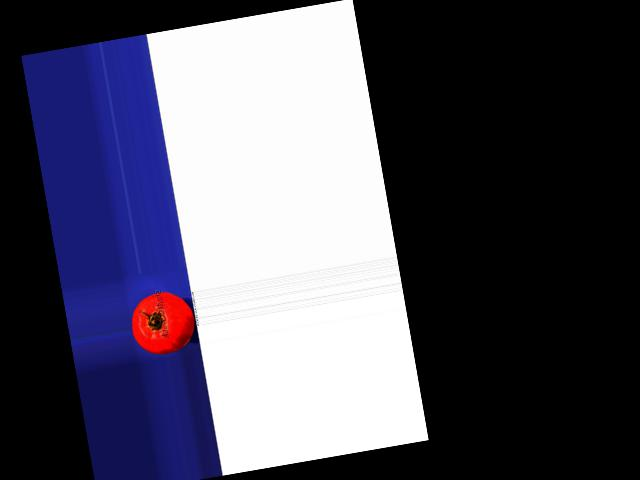tomato: (127, 288, 198, 359)
